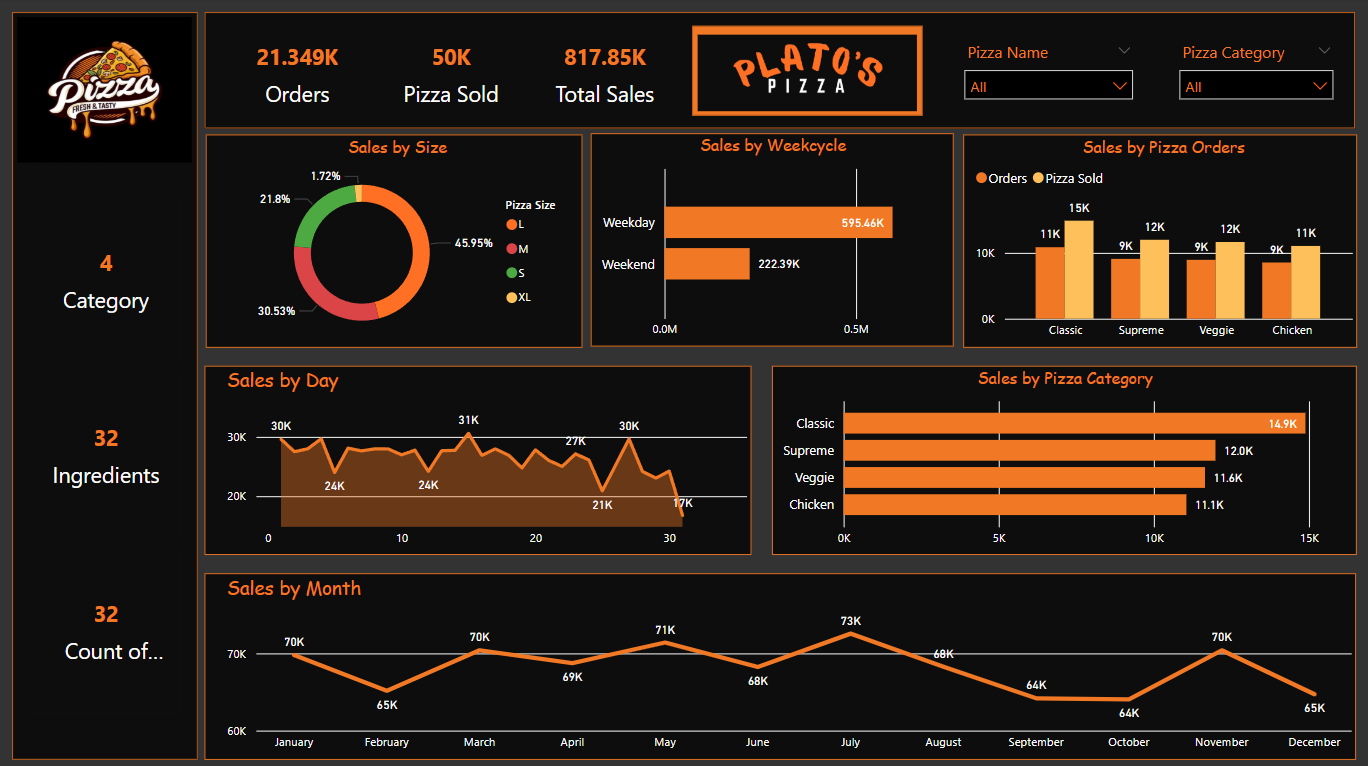

The dashboard page shown, as its layout file describes it:
{"tool":"powerbi","page":{"name":"Page 1","canvas":[1280,720],"ordinal":0},"visuals":[{"type":"barChart","title":"Sales by Weekcycle","fields":{"Category":["pizza_sales.Days"],"Y":["Sum(pizza_sales.total_price)"]},"box":[552,127,337.5,198.8],"z":0},{"type":"lineChart","title":"Sales by Month","fields":{"Y":["Sum(pizza_sales.total_price)"],"Category":["pizza_sales.order_date.Variation.Date Hierarchy.Month"]},"box":[192.5,536.2,1071.2,173.8],"z":1000},{"type":"donutChart","title":"Sales by Size","fields":{"Category":["pizza_sales.pizza_size"],"Y":["Sum(pizza_sales.total_price)"]},"box":[193.8,127.5,350,198.8],"z":2000},{"type":"areaChart","title":"Sales by Day","fields":{"Y":["Sum(pizza_sales.total_price)"],"Category":["pizza_sales.order_date.Variation.Date Hierarchy.Day"]},"box":[192.5,342.5,508.8,176.2],"z":3000},{"type":"shape","box":[193.5,13.7,1070.3,108.4],"z":4000,"group":"g2"},{"type":"clusteredColumnChart","title":"Sales by Pizza Orders","fields":{"Category":["pizza_sales.pizza_category"],"Y":["Count(pizza_sales.order_id)","Sum(pizza_sales.quantity)"]},"box":[898.8,127.5,366.2,198.8],"z":4000},{"type":"cardVisual","fields":{"Data":["Count(pizza_sales.order_id)","Sum(pizza_sales.quantity)","Sum(pizza_sales.total_price)"]},"box":[206.3,22.5,433.8,87.5],"z":5000,"group":"g2"},{"type":"barChart","title":"Sales by Pizza Category","fields":{"Category":["pizza_sales.pizza_category"],"Y":["Sum(pizza_sales.quantity)"]},"box":[721.2,342.5,543.8,176.2],"z":5000},{"type":"group","id":"g1","title":"Group 2","box":[13.7,13.7,172.9,695.7],"z":6000},{"type":"slicer","fields":{"Values":["pizza_sales.pizza_category"]},"box":[1090,36.2,163.8,77.5],"z":6000,"group":"g2"},{"type":"group","id":"g2","title":"Group 3","box":[193.5,13.7,1070.3,108.4],"z":7000},{"type":"slicer","fields":{"Values":["pizza_sales.pizza_name"]},"box":[890,36.2,177.5,77.5],"z":7000,"group":"g2"},{"type":"shape","box":[13.7,13.7,172.9,695.7],"z":8000,"group":"g1"},{"type":"shape","box":[647.7,26.2,214.6,83.8],"z":8000,"group":"g3"},{"type":"image","box":[620.7,29.6,268.8,81.2],"z":9000,"group":"g3"},{"type":"cardVisual","fields":{"Data":["Count(pizza_sales.pizza_category)","Count(pizza_sales.pizza_ingredients)","Count(pizza_sales.pizza_name)"]},"box":[23.7,180,152.5,492.5],"z":9000,"group":"g1"},{"type":"image","box":[13.7,13.7,172.5,145],"z":10000,"group":"g1"},{"type":"group","id":"g3","title":"Group 1","box":[620.7,26.2,268.8,84.7],"z":12000,"group":"g2"}]}

Visuals, with their boxes in screenshot pixels (x1, y1, x2, y2), scaled from the page's 1280x720 canvas onto the 1368x766 screenshot:
"Sales by Weekcycle" barChart: crop(590, 135, 951, 347)
"Sales by Month" lineChart: crop(206, 570, 1351, 755)
"Sales by Size" donutChart: crop(207, 136, 581, 347)
"Sales by Day" areaChart: crop(206, 364, 750, 552)
shape: crop(207, 15, 1351, 130)
"Sales by Pizza Orders" clusteredColumnChart: crop(961, 136, 1352, 347)
cardVisual - Count(pizza_sales.order_id) x Sum(pizza_sales.quantity): crop(220, 24, 684, 117)
"Sales by Pizza Category" barChart: crop(771, 364, 1352, 552)
"Group 2" group: crop(15, 15, 199, 755)
slicer - pizza_sales.pizza_category: crop(1165, 39, 1340, 121)
"Group 3" group: crop(207, 15, 1351, 130)
slicer - pizza_sales.pizza_name: crop(951, 39, 1141, 121)
shape: crop(15, 15, 199, 755)
shape: crop(692, 28, 922, 117)
image: crop(663, 31, 951, 118)
cardVisual - Count(pizza_sales.pizza_category) x Count(pizza_sales.pizza_ingredients): crop(25, 192, 188, 715)
image: crop(15, 15, 199, 169)
"Group 1" group: crop(663, 28, 951, 118)
